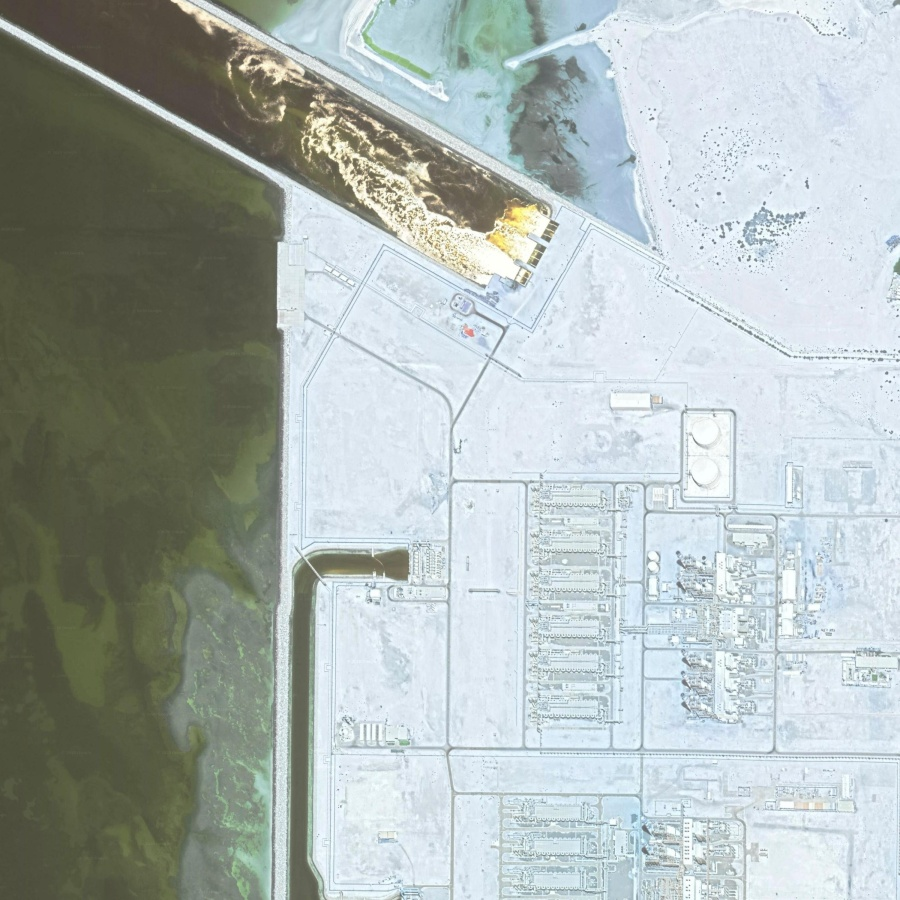PowerPlant: (524, 385, 855, 729)
